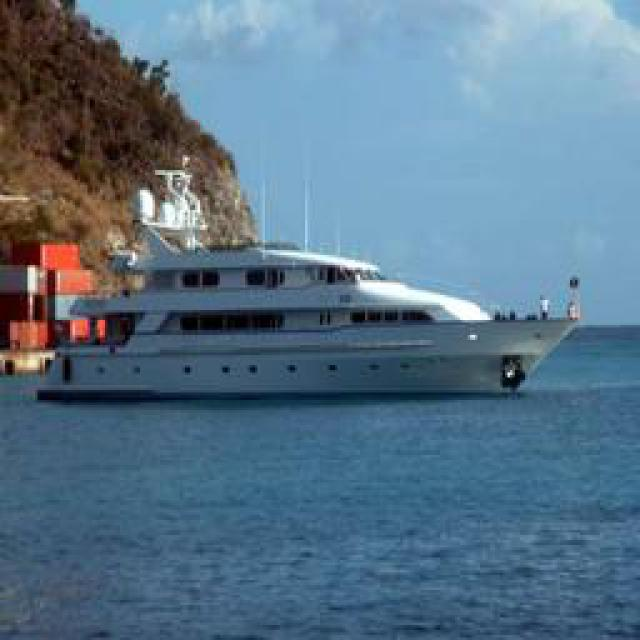Ship: (32, 172, 592, 400)
